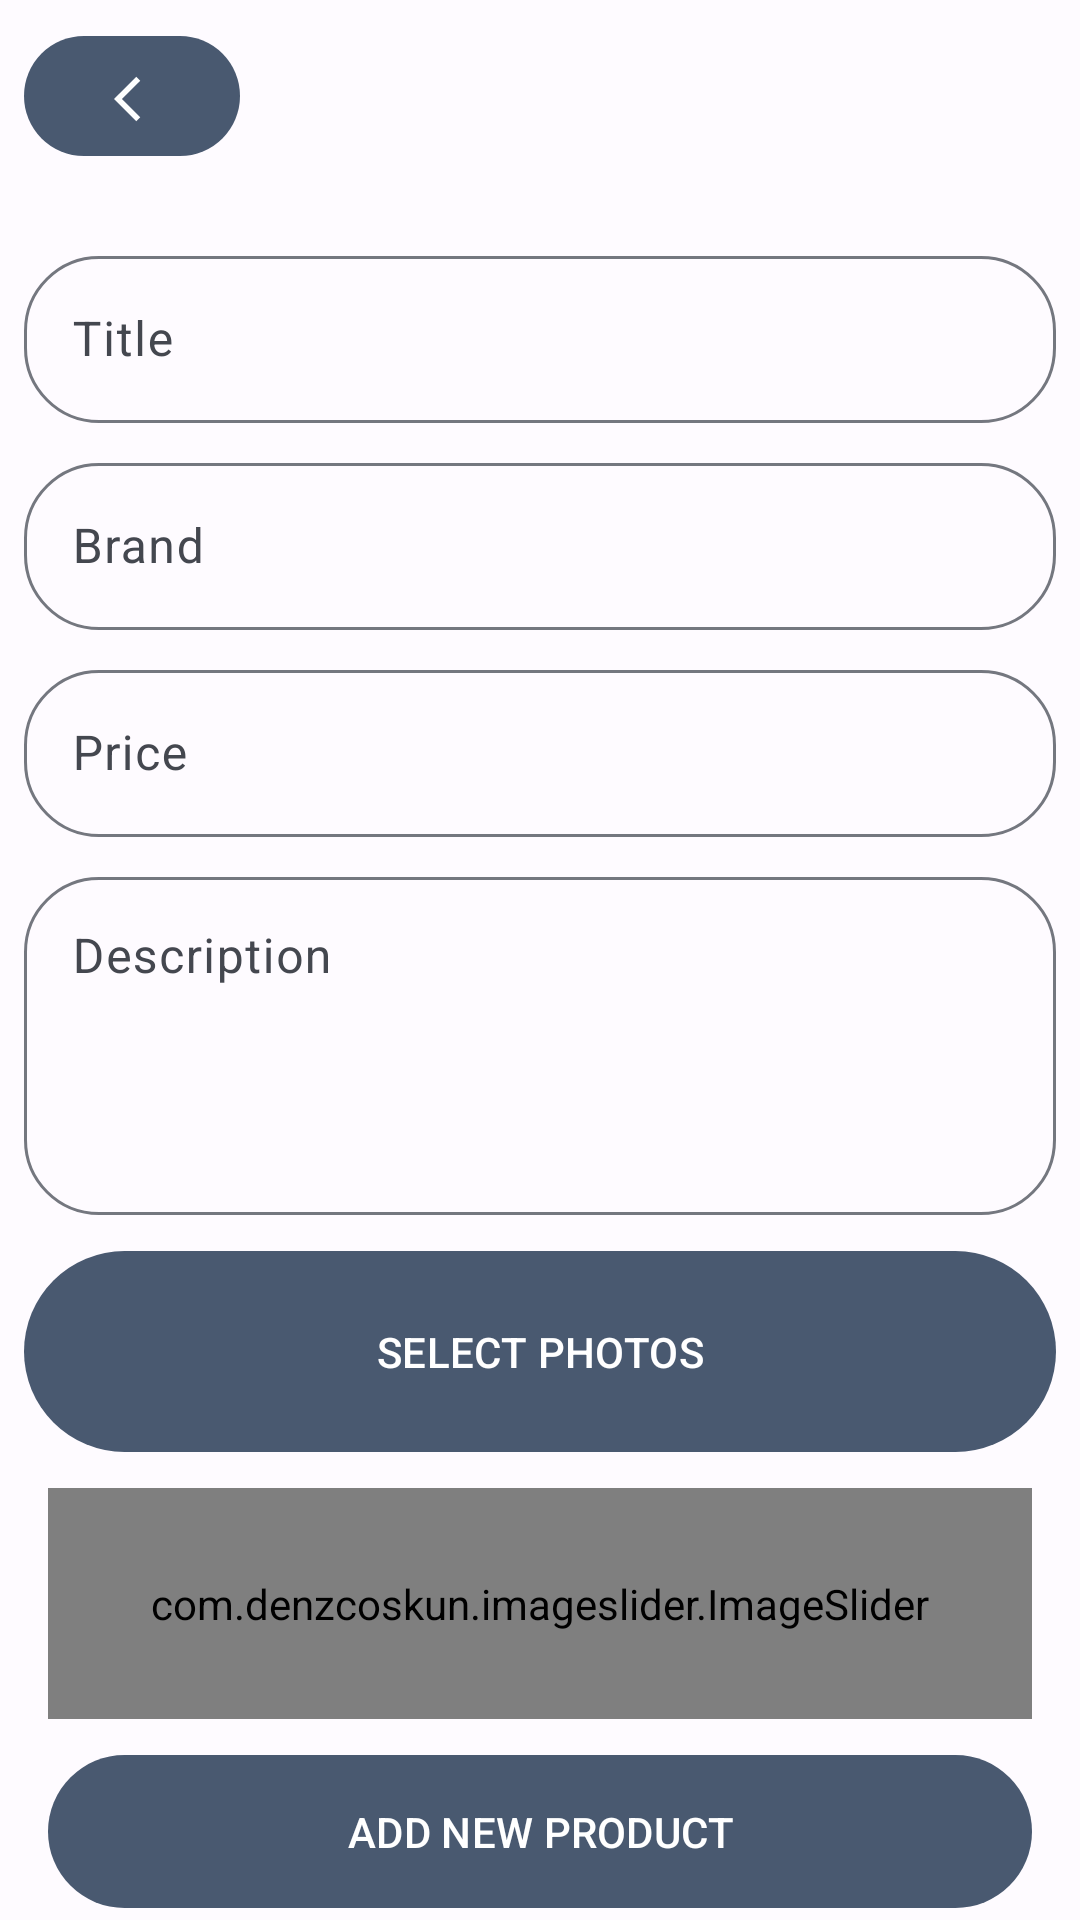

Locate icon controls on the screen. Image size 1080 × 1920, boxes as (x1, y1, x2, y2).
back: (24, 36, 240, 156)
